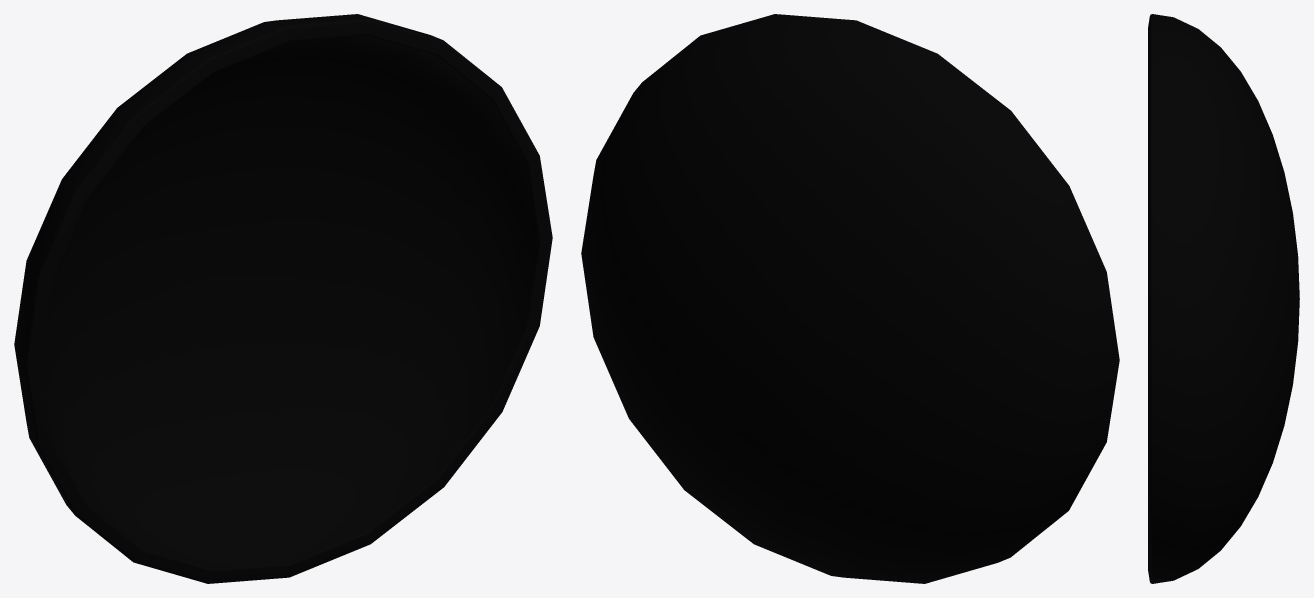
The model's file is CurvedMirror.fbx.
3 renders of one model, left to right at view 1: azimuth 30°, elevation 25°; view 2: azimuth 150°, elevation 25°; view 3: azimuth 270°, elevation 25°, orthographic. The views are drawn at different scales.
Parts seen in each view (by area): view 1: CurvedMirror; view 2: CurvedMirror; view 3: CurvedMirror.
Boxes of the visible parts, x1,y1,x2,y2 form: CurvedMirror: (14,14,552,583); CurvedMirror: (581,14,1119,583); CurvedMirror: (1148,14,1299,583).
Bounding box in the file's own units: 2.11 × 2.11 × 0.5586.
